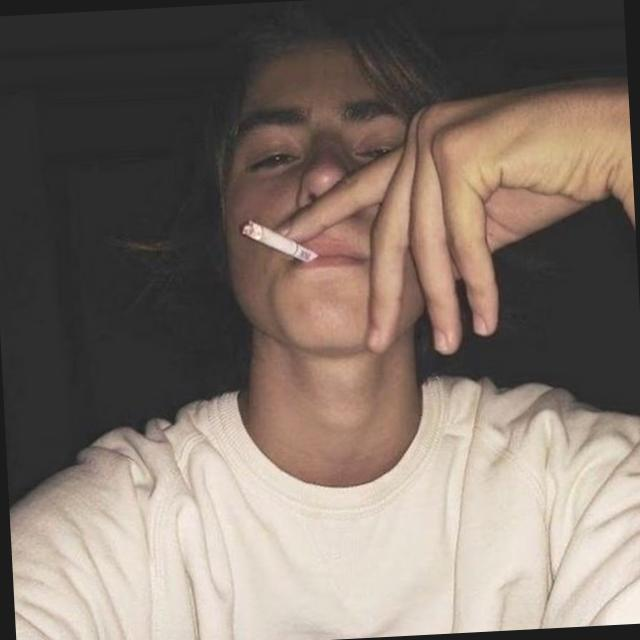smoke: (238, 214, 326, 272)
